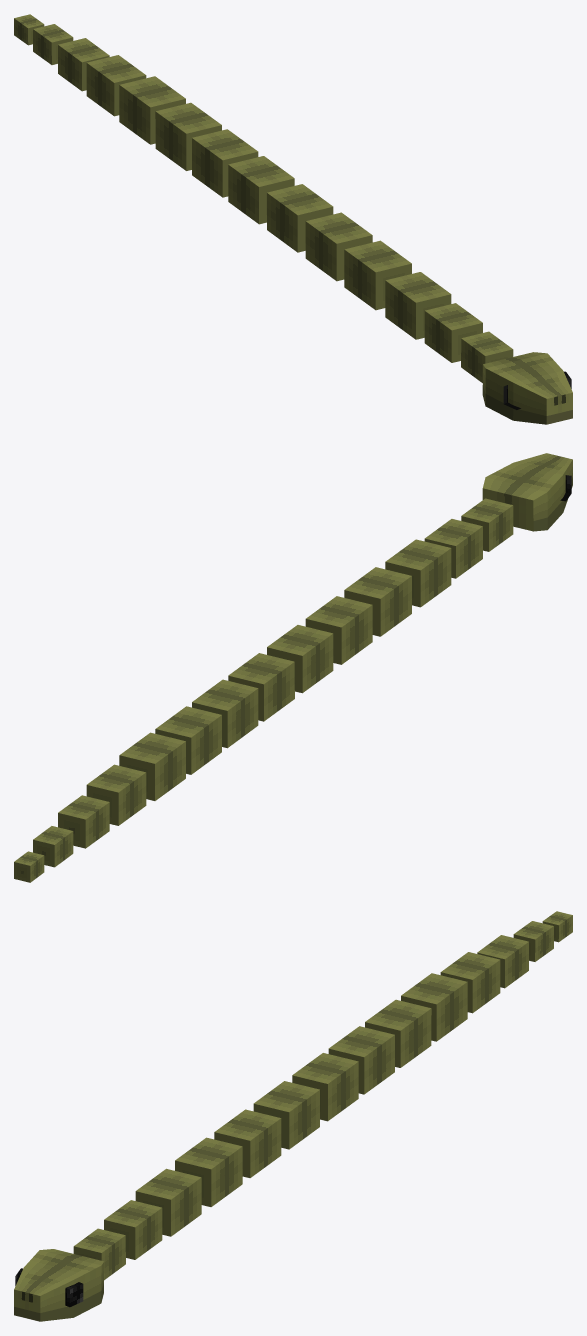
The model's file is TeraSnake.obj.
3 views of the same model, one above another, from view 1: azimuth 30°, elevation 25°; view 2: azimuth 150°, elevation 25°; view 3: azimuth 330°, elevation 25° (orthographic).
Visible parts, largest first — view 1: Cube; view 2: Cube; view 3: Cube.
Boxes of the visible parts, left/top/right/bottom form: Cube: left=14, top=14, right=572, bottom=424; Cube: left=14, top=453, right=572, bottom=882; Cube: left=14, top=911, right=572, bottom=1321.
Size of the model in its own units: 0.3693 by 0.233 by 5.51.
1 material, 1 textured.
